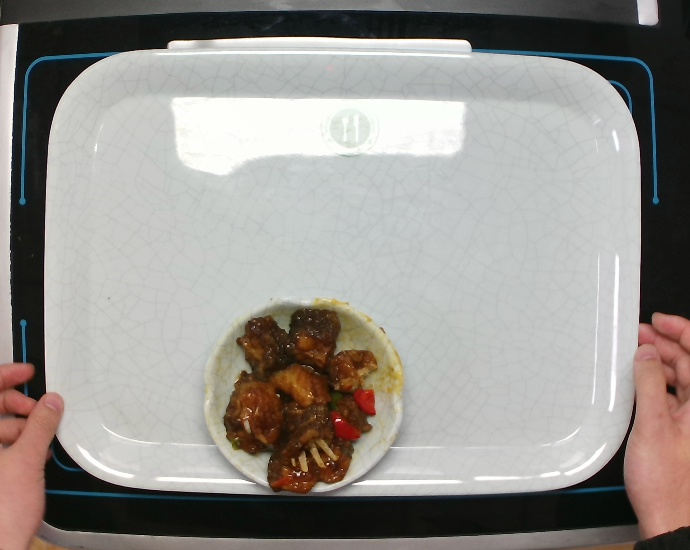JYsf-Ao_Yuan_Wan: (199, 290, 411, 499)
